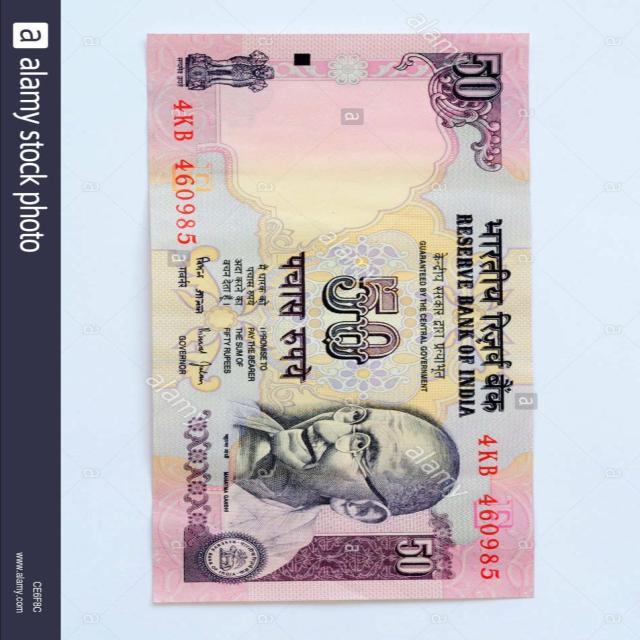50IndianRupees: (159, 38, 531, 600)
